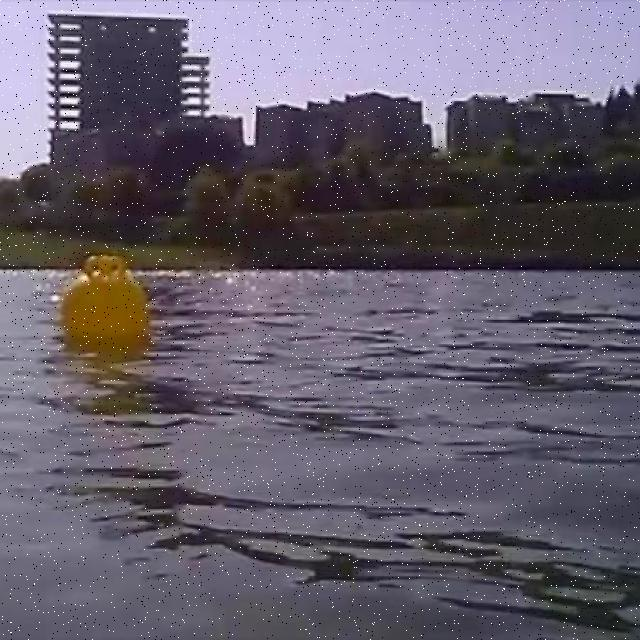buoy: (62, 254, 151, 356)
